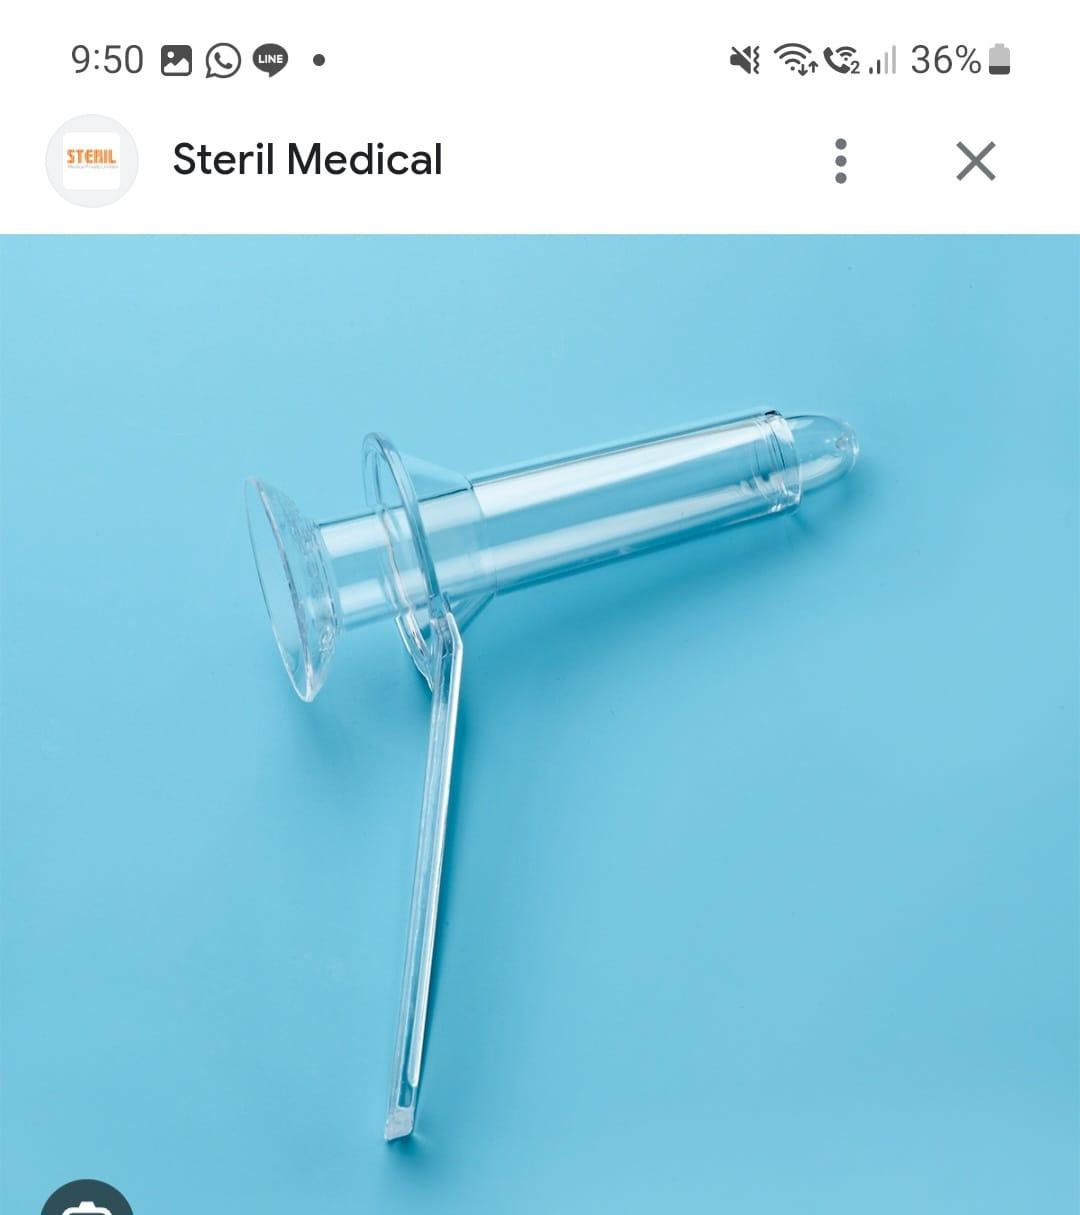Protoscope: (244, 394, 870, 1168)
